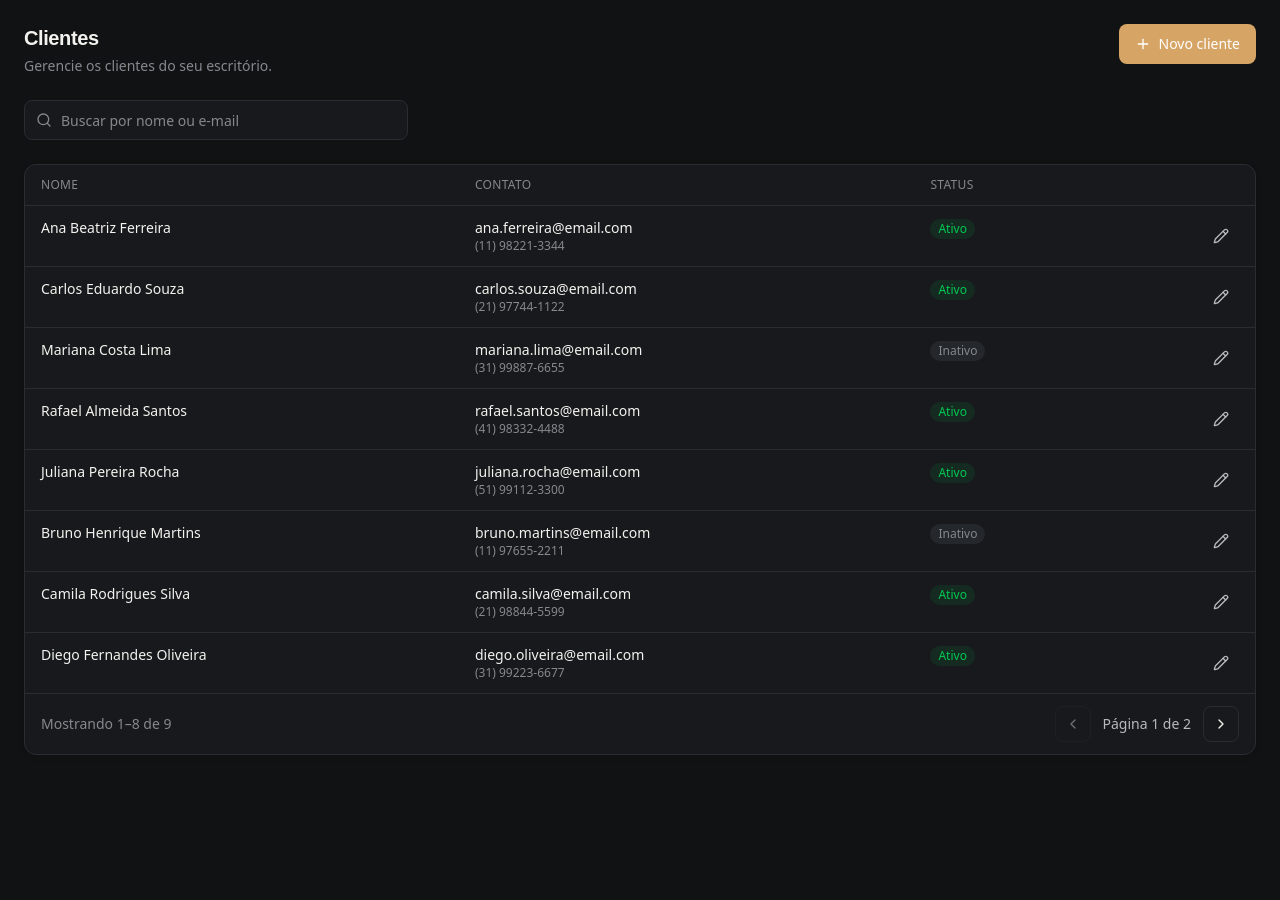
it: ClientsPage › paginates to the next page
The width and height of the screenshot is (1280, 900).
Check: the text "Ana Beatriz Ferreira" is shown, box left=41, top=218, right=171, bottom=237
Step 1. Click the button named "Próxima página" → x=1221, y=724, box left=1203, top=706, right=1239, bottom=742
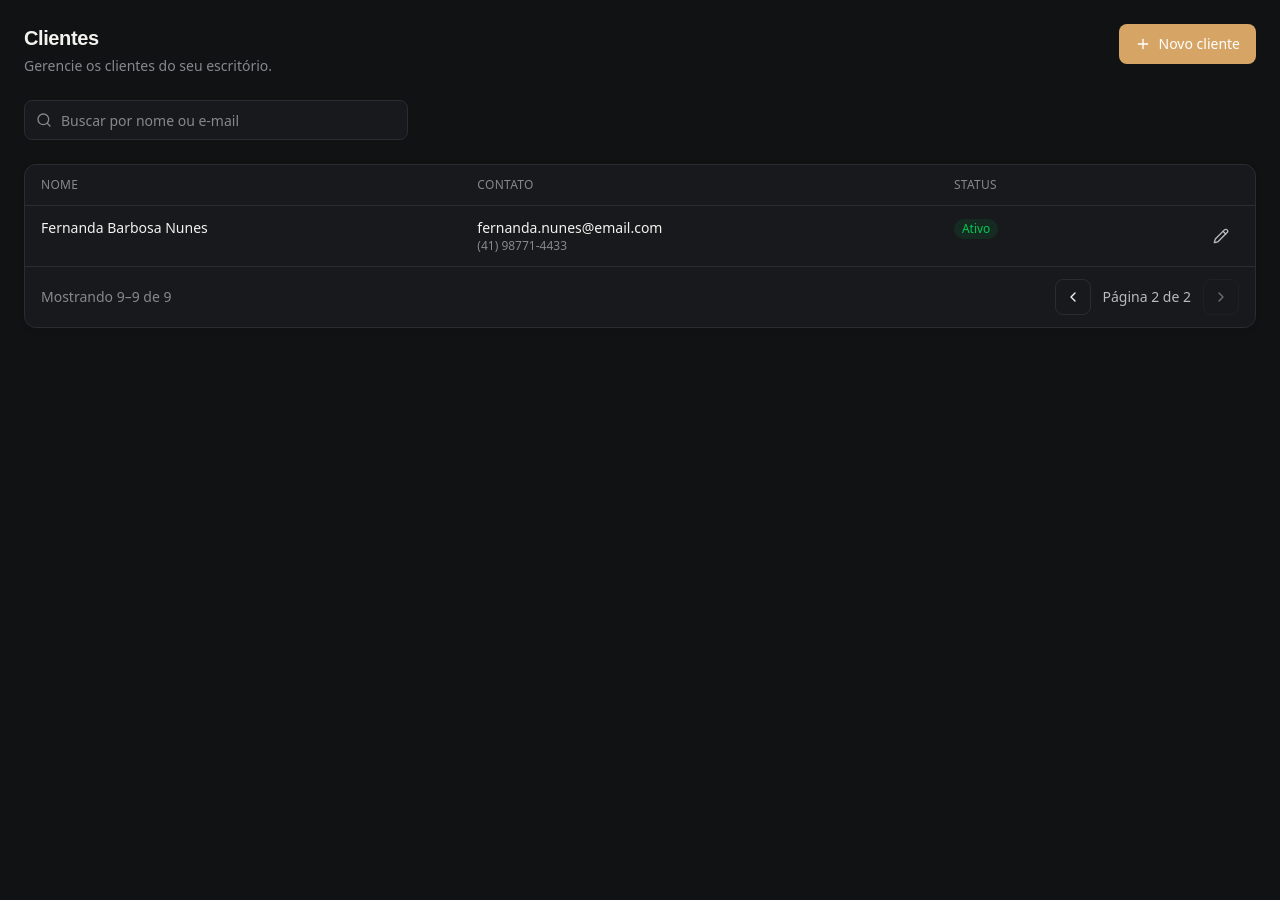
Check: the text "Ana Beatriz Ferreira" is gone
